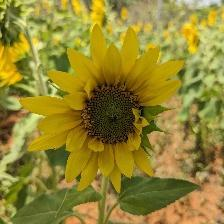sunflower: (48, 54, 175, 181)
